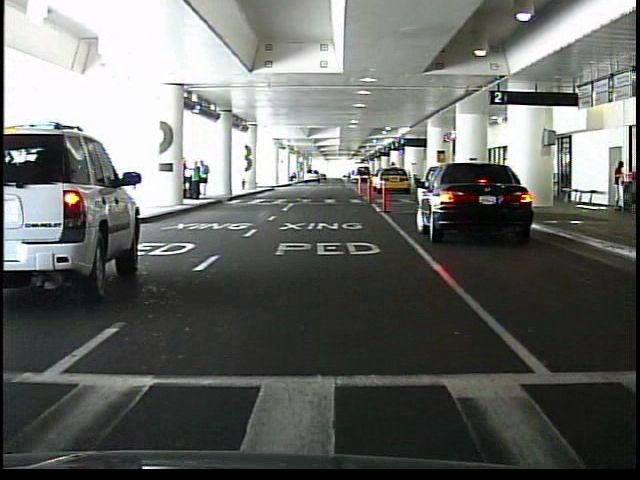person: (611, 162, 626, 216), (188, 160, 201, 201), (200, 161, 211, 198)
